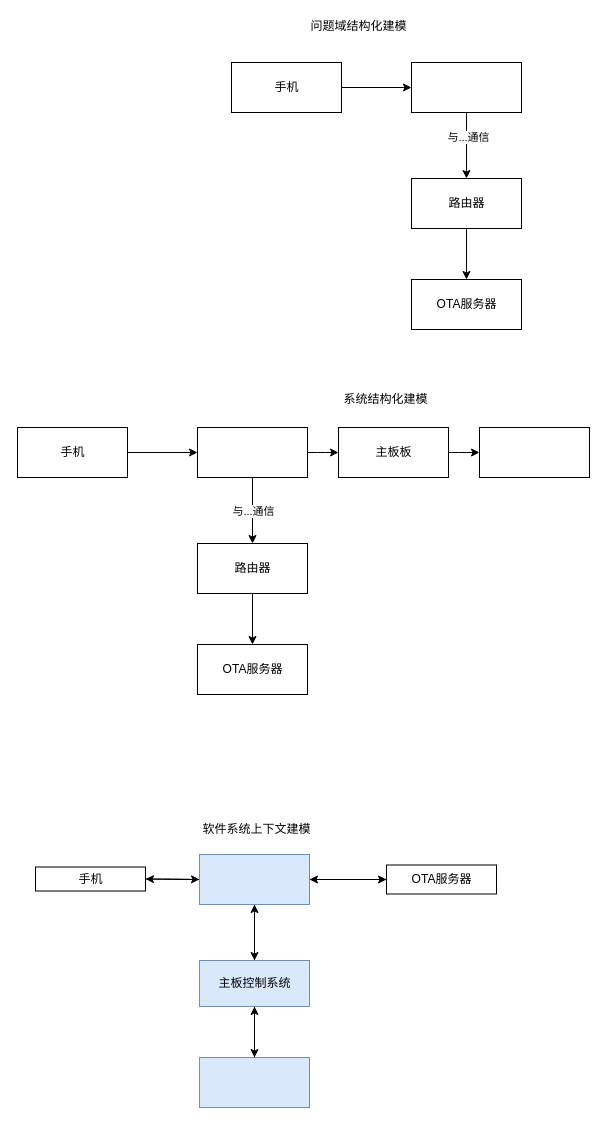
This 607x1125 diagram has some shape labels left out. Each missing label, with the box of its shape:
智能床: (410, 62, 522, 112)
睡眠盒子: (478, 426, 590, 478)
睡眠盒子控制系统: (198, 1056, 310, 1108)
语音板: (196, 426, 308, 478)
语音板控制系统: (198, 854, 310, 904)
